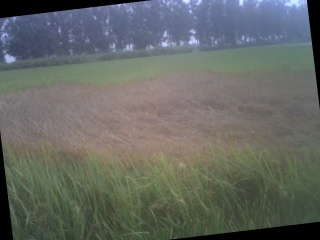Hopper_burn: (5, 53, 320, 180)
